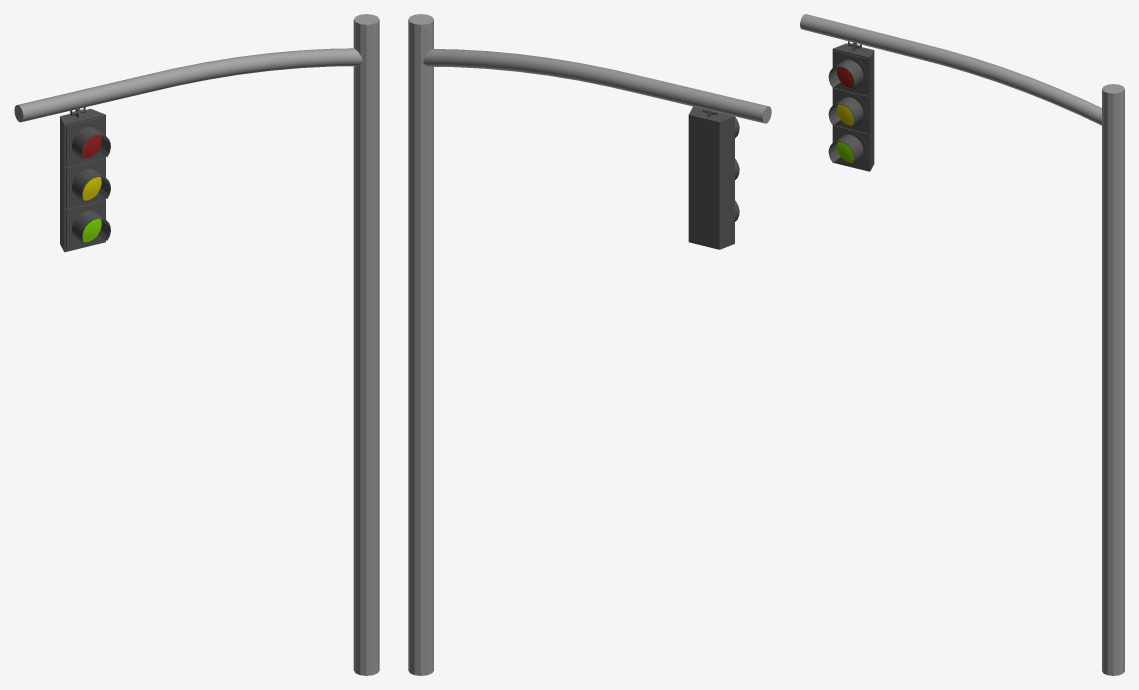
File: TrafficLight1.fbx
3 renders of one model, left to right at view 1: azimuth 30°, elevation 25°; view 2: azimuth 150°, elevation 25°; view 3: azimuth 330°, elevation 25°, orthographic. The views are drawn at different scales.
Parts seen in each view (by area): view 1: TrafficLight1; view 2: TrafficLight1; view 3: TrafficLight1.
Boxes of the visible parts, left/top/right/bottom form: TrafficLight1: left=14, top=14, right=379, bottom=675; TrafficLight1: left=408, top=14, right=771, bottom=675; TrafficLight1: left=800, top=14, right=1124, bottom=675.
Size of the model in its own units: 2.6 by 4.52 by 0.2939.
